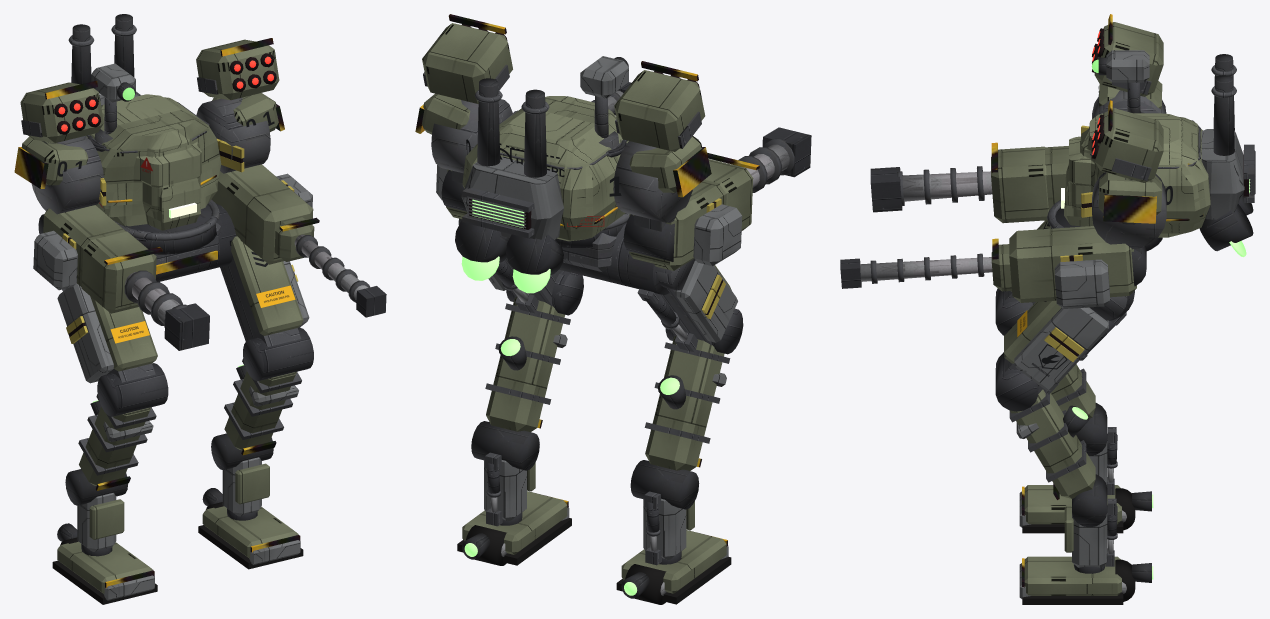
Rendered from mech_harrow.glb.
3 views of the same model, side by side, from view 1: azimuth 30°, elevation 25°; view 2: azimuth 150°, elevation 25°; view 3: azimuth 270°, elevation 25° (orthographic). The views are drawn at different scales.
Parts seen in each view (by area): view 1: CHEST_canopy_1_harrow_armor.001, cockpit_harrow_armor.001, forearm_L_harrow_armor.001, shoulder_R_harrow_armor.001, shoulder_L_harrow_armor.001, hand_R_harrow_armor.001, thigh_L_harrow_armor.001, shoulder_R_harrow_frame.001, shoulder_L_harrow_frame.001, thigh_R_harrow_armor2.001, shin_R_harrow_dark.001, shin_L_harrow_dark.001 (+46 smaller); view 2: cockpit_harrow_armor.001, cockpit_harrow_dark.001, shoulder_R_harrow_armor.001, shoulder_L_harrow_armor.001, shin_R_harrow_armor.001, shin_L_harrow_armor.001, cockpit_harrow_armor2.001, shoulder_R_harrow_frame.001, cockpit_harrow_frame.001, shoulder_L_harrow_frame.001, hock_L_harrow_dark.001, hock_R_harrow_dark.001 (+34 smaller); view 3: forearm_L_harrow_armor.001, cockpit_harrow_armor.001, shoulder_L_harrow_armor.001, hand_R_harrow_armor.001, thigh_L_harrow_armor2.001, shin_L_harrow_armor.001, cockpit_harrow_dark.001, foot_L_harrow_armor.001, shoulder_R_harrow_armor.001, shoulder_L_harrow_frame.001, cockpit_harrow_armor2.001, forearm_L_harrow_armor2.001 (+27 smaller).
Part boxes in pixels (left/top/right/bottom): CHEST_canopy_1_harrow_armor.001: left=97, top=110, right=219, bottom=188; cockpit_harrow_armor.001: left=85, top=94, right=221, bottom=230; forearm_L_harrow_armor.001: left=211, top=164, right=313, bottom=264; shoulder_R_harrow_armor.001: left=20, top=82, right=103, bottom=185; shoulder_L_harrow_armor.001: left=196, top=39, right=279, bottom=131; hand_R_harrow_armor.001: left=81, top=231, right=156, bottom=313; thigh_L_harrow_armor.001: left=231, top=236, right=303, bottom=335; shoulder_R_harrow_frame.001: left=21, top=120, right=103, bottom=214; shoulder_L_harrow_frame.001: left=196, top=77, right=270, bottom=173; thigh_R_harrow_armor2.001: left=57, top=283, right=113, bottom=383; shin_R_harrow_dark.001: left=90, top=363, right=168, bottom=416; shin_L_harrow_dark.001: left=236, top=327, right=313, bottom=381; cockpit_harrow_armor.001: left=462, top=110, right=625, bottom=241; cockpit_harrow_dark.001: left=455, top=78, right=563, bottom=275; shoulder_R_harrow_armor.001: left=614, top=70, right=705, bottom=192; shoulder_L_harrow_armor.001: left=421, top=23, right=512, bottom=134; shin_R_harrow_armor.001: left=645, top=335, right=724, bottom=470; shin_L_harrow_armor.001: left=486, top=297, right=564, bottom=431; cockpit_harrow_armor2.001: left=461, top=157, right=563, bottom=239; shoulder_R_harrow_frame.001: left=613, top=111, right=701, bottom=231; cockpit_harrow_frame.001: left=462, top=90, right=627, bottom=238; shoulder_L_harrow_frame.001: left=423, top=64, right=512, bottom=182; hock_L_harrow_dark.001: left=471, top=421, right=539, bottom=497; hock_R_harrow_dark.001: left=630, top=460, right=699, bottom=536; forearm_L_harrow_armor.001: left=1009, top=226, right=1136, bottom=302; cockpit_harrow_armor.001: left=1064, top=113, right=1210, bottom=237; shoulder_L_harrow_armor.001: left=1094, top=108, right=1163, bottom=215; hand_R_harrow_armor.001: left=991, top=146, right=1048, bottom=223; thigh_L_harrow_armor2.001: left=1014, top=307, right=1108, bottom=390; shin_L_harrow_armor.001: left=1010, top=389, right=1095, bottom=498; cockpit_harrow_dark.001: left=1199, top=54, right=1253, bottom=251; foot_L_harrow_armor.001: left=1024, top=556, right=1121, bottom=595; shoulder_R_harrow_armor.001: left=1094, top=22, right=1163, bottom=109; shoulder_L_harrow_frame.001: left=1092, top=158, right=1166, bottom=253; cockpit_harrow_armor2.001: left=1201, top=129, right=1244, bottom=219; forearm_L_harrow_armor2.001: left=1054, top=259, right=1109, bottom=308.
Bounding box in the file's own units: 13.3 × 24.01 × 18.39.
Materials: 14 (8 with a texture image).
